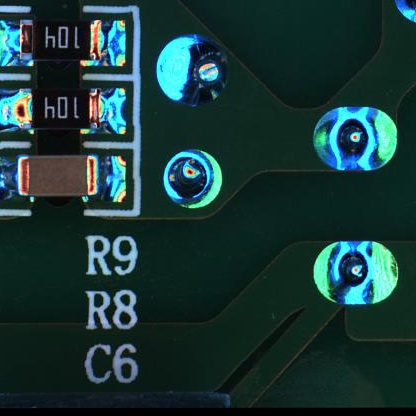spot: (303, 101, 406, 181), (306, 235, 404, 314), (152, 29, 234, 114), (154, 143, 235, 217)
